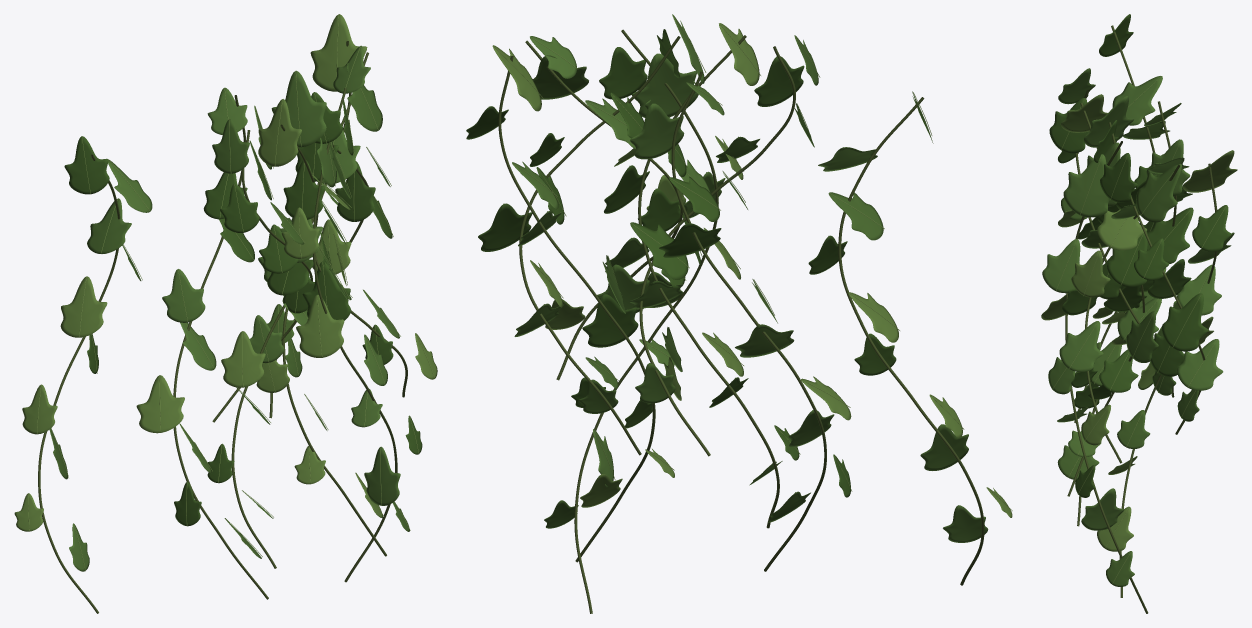
Rendered from ivy.glb.
The picture shows the model from 3 angles, left to right: view 1: azimuth 30°, elevation 25°; view 2: azimuth 150°, elevation 25°; view 3: azimuth 270°, elevation 25°; orthographic projection. The views are drawn at different scales.
Visible parts, largest first — view 1: Ivy lobed leaf.050, Ivy lobed leaf.010, Ivy lobed leaf.034, Ivy lobed leaf.060, Ivy lobed leaf.004, Ivy lobed leaf.076, Ivy lobed leaf, Ivy lobed leaf.066, Ivy lobed leaf.074, Ivy lobed leaf.002, Ivy lobed leaf.062, Ivy lobed leaf.054 (+34 smaller); view 2: Ivy lobed leaf.061, Hanging ivy stem, Hanging ivy stem.007, Hanging ivy stem.003, Hanging ivy stem.001, Ivy lobed leaf.071, Ivy lobed leaf.015, Hanging ivy stem.006, Hanging ivy stem.005, Ivy lobed leaf.051, Hanging ivy stem.004, Ivy lobed leaf.055 (+27 smaller); view 3: Ivy lobed leaf.031, Ivy lobed leaf.055, Ivy lobed leaf.021, Ivy lobed leaf.057, Ivy lobed leaf.027, Ivy lobed leaf.073, Ivy lobed leaf.033, Ivy lobed leaf.023, Ivy lobed leaf.001, Ivy lobed leaf.063, Ivy lobed leaf.051, Ivy lobed leaf.011 (+48 smaller).
Boxes of the visible parts, <box> form: Ivy lobed leaf.050: <box>271,70,326,147</box>; Ivy lobed leaf.010: <box>310,14,367,91</box>; Ivy lobed leaf.034: <box>296,294,344,357</box>; Ivy lobed leaf.060: <box>258,99,301,166</box>; Ivy lobed leaf.004: <box>60,276,107,337</box>; Ivy lobed leaf.076: <box>136,375,184,433</box>; Ivy lobed leaf: <box>64,136,109,194</box>; Ivy lobed leaf.066: <box>221,331,265,387</box>; Ivy lobed leaf.074: <box>162,269,205,322</box>; Ivy lobed leaf.002: <box>87,198,131,253</box>; Ivy lobed leaf.062: <box>283,160,325,219</box>; Ivy lobed leaf.054: <box>335,161,375,221</box>; Ivy lobed leaf.061: <box>632,53,698,117</box>; Hanging ivy stem: <box>838,97,984,585</box>; Hanging ivy stem.007: <box>671,71,826,571</box>; Hanging ivy stem.003: <box>574,29,718,613</box>; Hanging ivy stem.001: <box>498,56,655,562</box>; Ivy lobed leaf.071: <box>630,103,684,159</box>; Ivy lobed leaf.015: <box>582,294,638,347</box>; Hanging ivy stem.006: <box>638,35,779,528</box>; Hanging ivy stem.005: <box>519,36,680,455</box>; Ivy lobed leaf.051: <box>599,47,647,99</box>; Hanging ivy stem.004: <box>639,46,795,456</box>; Ivy lobed leaf.055: <box>478,203,532,251</box>; Ivy lobed leaf.031: <box>1063,154,1110,217</box>; Ivy lobed leaf.055: <box>1162,293,1208,351</box>; Ivy lobed leaf.021: <box>1136,164,1181,222</box>; Ivy lobed leaf.057: <box>1177,339,1223,390</box>; Ivy lobed leaf.027: <box>1059,321,1103,371</box>; Ivy lobed leaf.073: <box>1147,207,1193,263</box>; Ivy lobed leaf.033: <box>1042,239,1080,293</box>; Ivy lobed leaf.023: <box>1097,209,1146,250</box>; Ivy lobed leaf.001: <box>1112,76,1162,125</box>; Ivy lobed leaf.063: <box>1107,231,1147,286</box>; Ivy lobed leaf.051: <box>1100,153,1137,202</box>; Ivy lobed leaf.011: <box>1192,205,1231,251</box>.
Bounding box in the file's own units: 1.09 × 1.33 × 0.4845.
